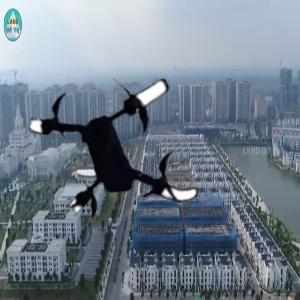drone: (31, 53, 217, 239)
